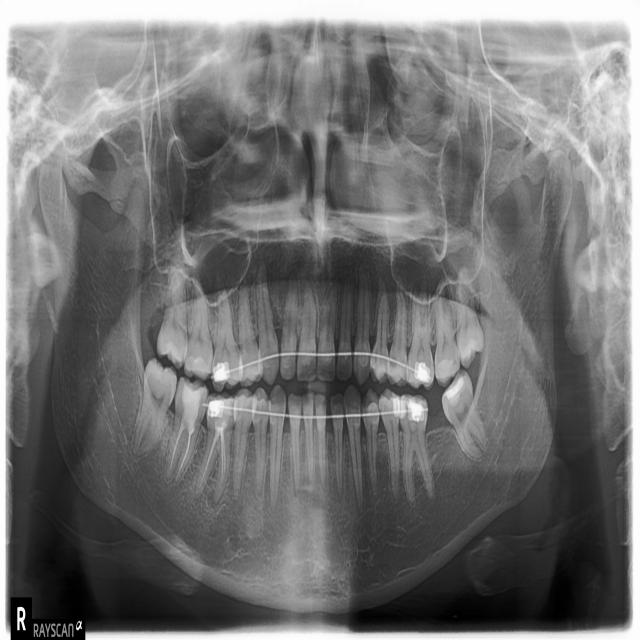mandibula: (37, 150, 574, 608)
